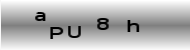8: (96, 17, 109, 30)
P: (49, 25, 63, 40)
U: (67, 26, 81, 38)
a: (34, 11, 46, 22)
h: (126, 19, 140, 33)
